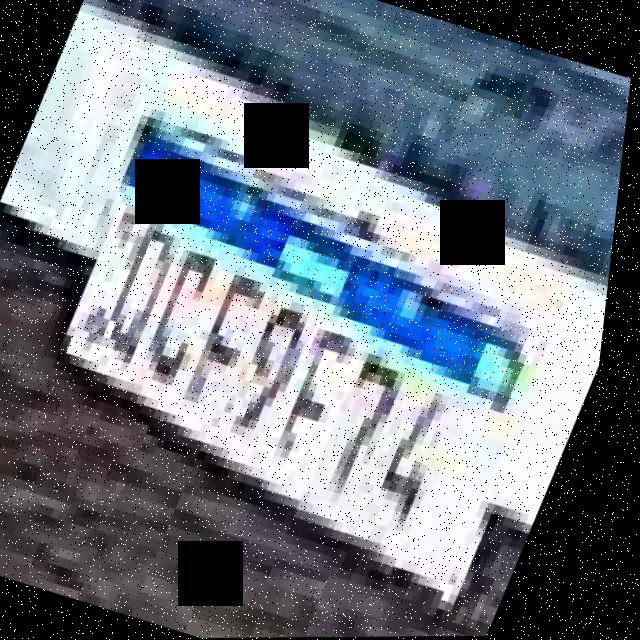4: (367, 373, 484, 540)
7: (314, 345, 430, 513)
9: (226, 294, 330, 446)
C: (137, 239, 242, 389)
F: (265, 313, 382, 484), (181, 266, 291, 424)
Q: (93, 210, 200, 374)
